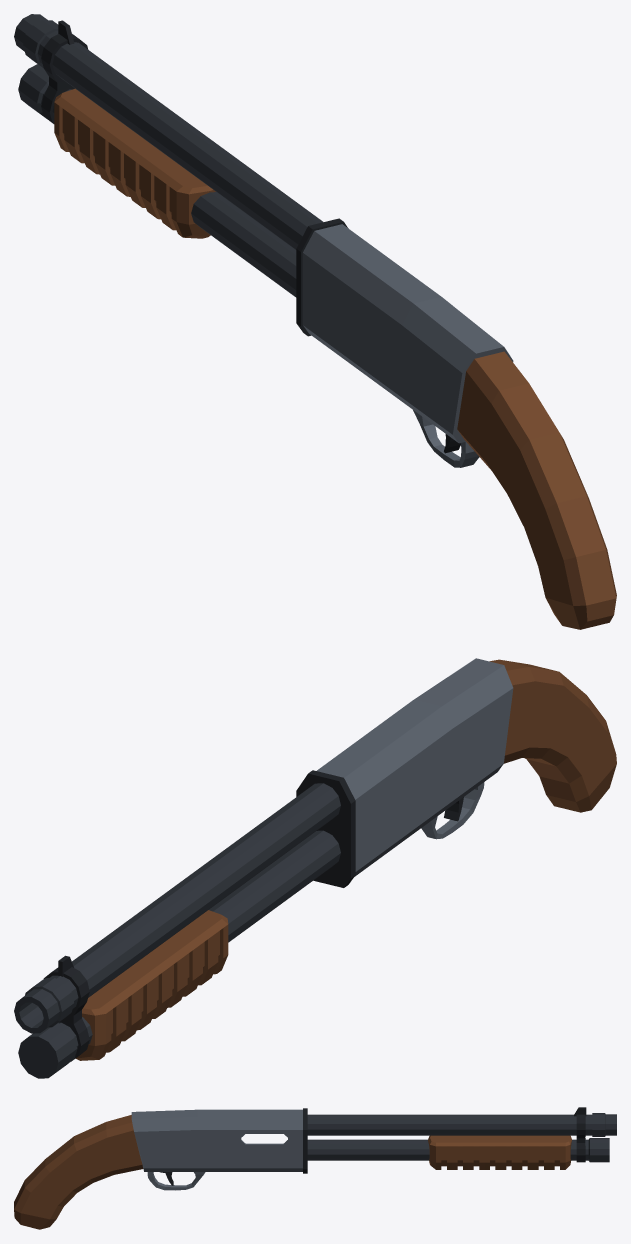
Rendered from mauler.glb.
3 renders of one model, top to bottom at view 1: azimuth 30°, elevation 25°; view 2: azimuth 150°, elevation 25°; view 3: azimuth 270°, elevation 25°, orthographic. The views are drawn at different scales.
Parts seen in each view (by area): view 1: mauler_mesh; view 2: mauler_mesh; view 3: mauler_mesh.
Part boxes in pixels (bbox=[...]): mauler_mesh: bbox=[14, 14, 616, 629]; mauler_mesh: bbox=[14, 658, 616, 1078]; mauler_mesh: bbox=[14, 1107, 616, 1229].
Bounding box in the file's own units: 0.0452 × 0.1773 × 0.82.
